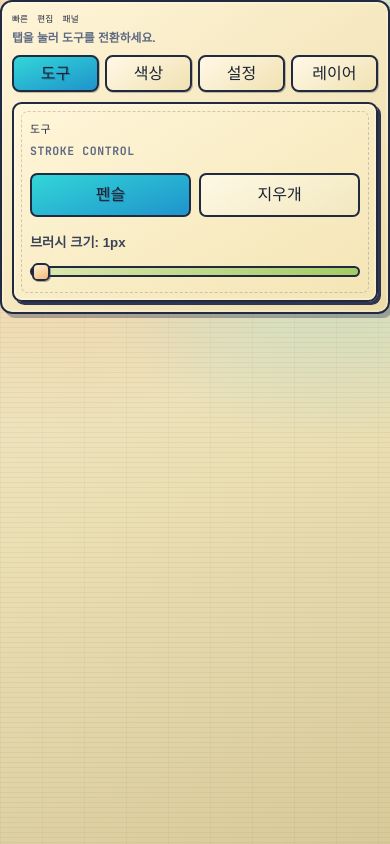
MobilePanelDock › switches panel content by tab
Check: the slider labelled "브러시 크기: 1px" is shown, box [30, 266, 360, 277]
Click the tab "레이어": (334, 74) [291, 55, 378, 92]
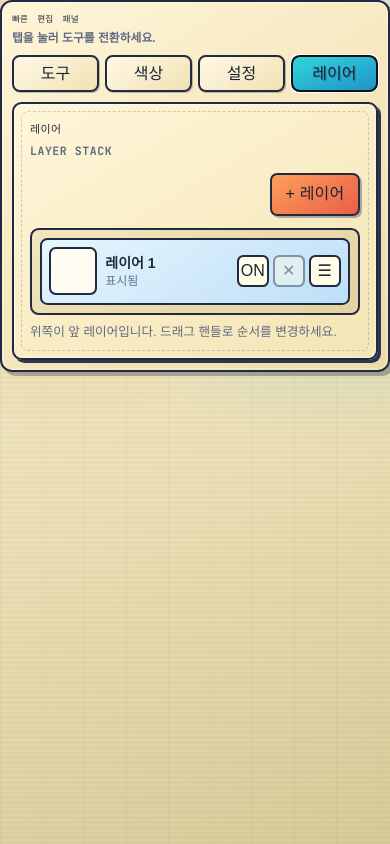
Check: the button "+ 레이어" is shown, box [270, 173, 360, 216]
Click the tab "설정": (241, 74) [198, 55, 285, 92]
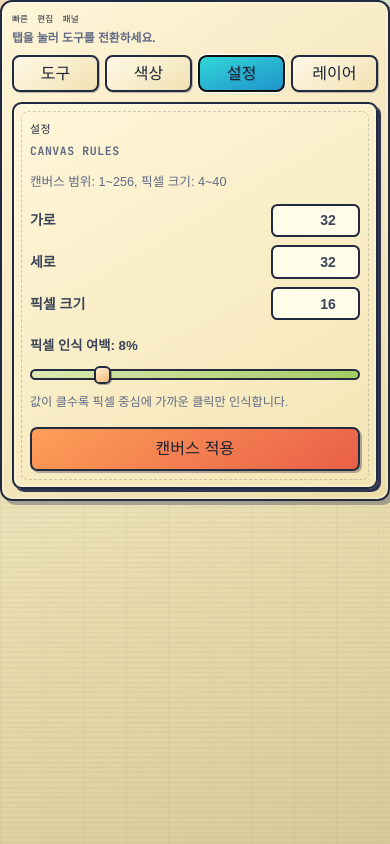
Check: the button "캔버스 적용" is shown, box [30, 427, 360, 471]
